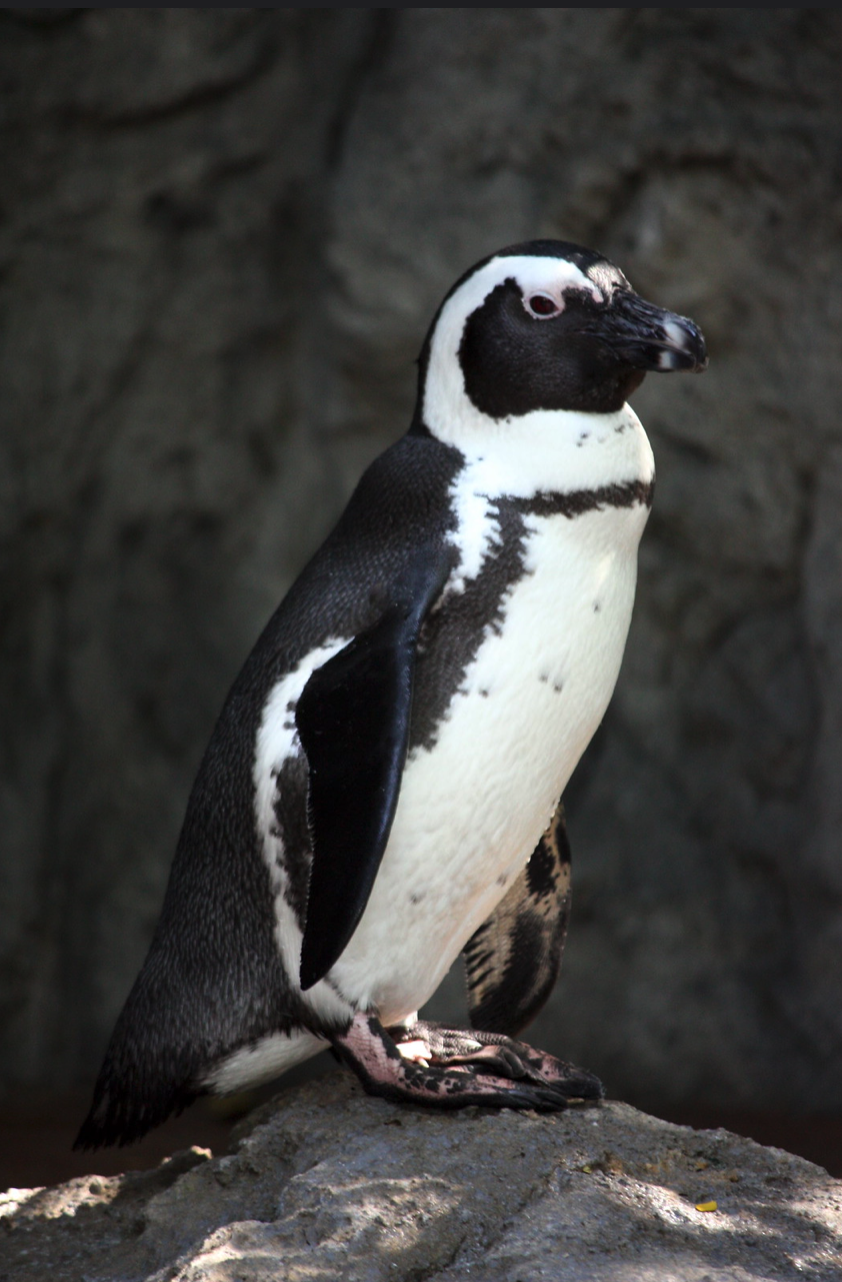penguin: (127, 234, 717, 1111)
